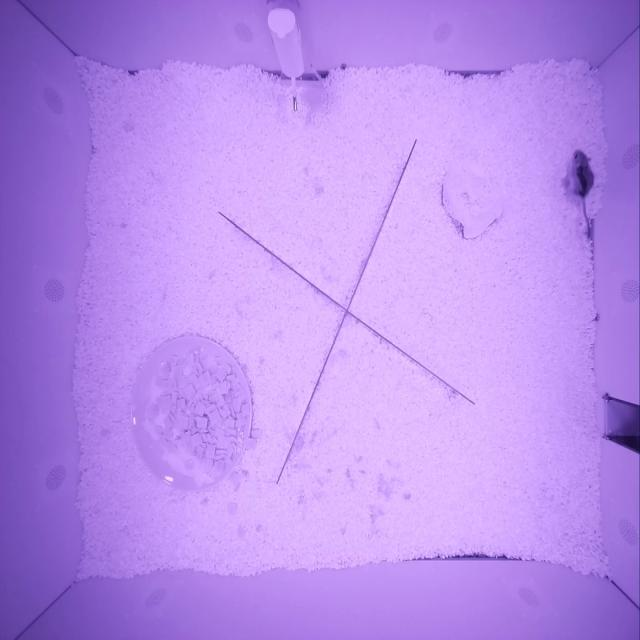pup_v_stripe: (571, 150, 594, 197)
